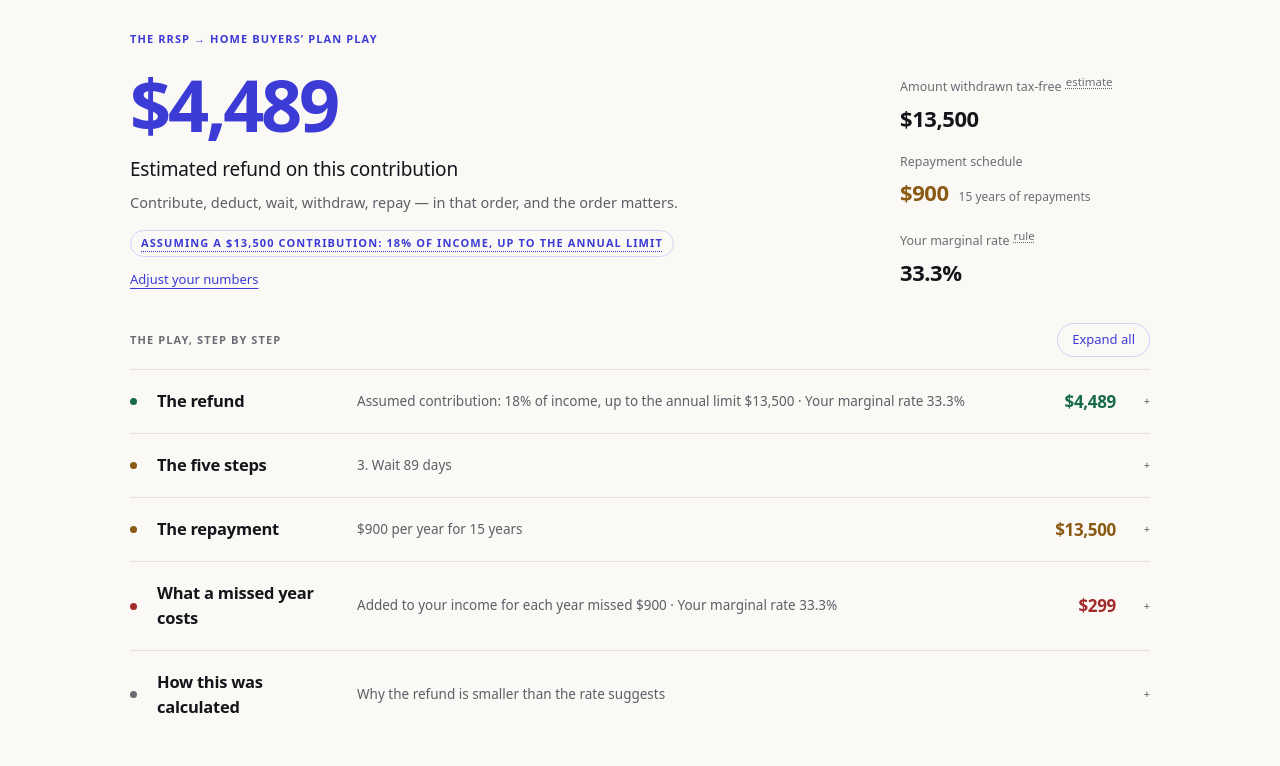
RRSP → HBP — no verdict it cannot support › ships no worth-it verdict
Click the button "What a missed year costs".
click(640, 606)  # box [130,562,1150,650]
(page scrolled)
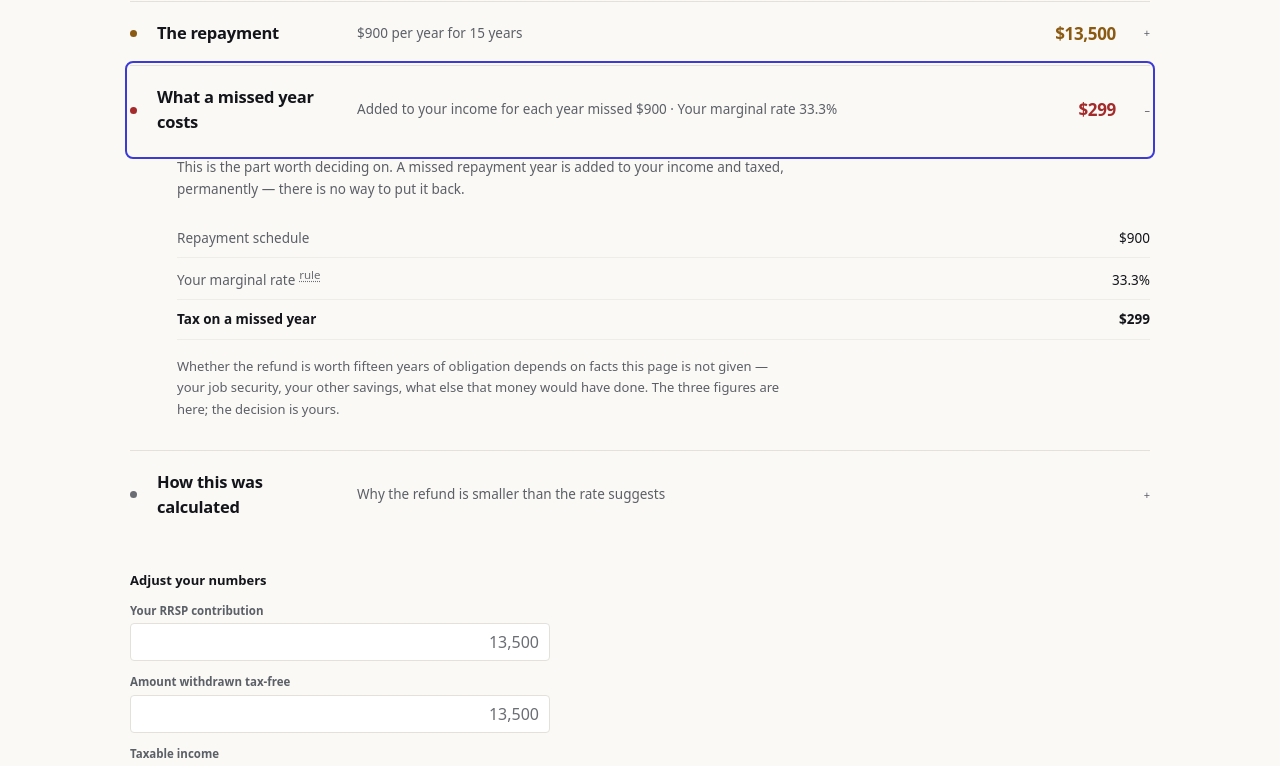
Expected: the text "the decision is yours" is shown, [177,357,779,418]
